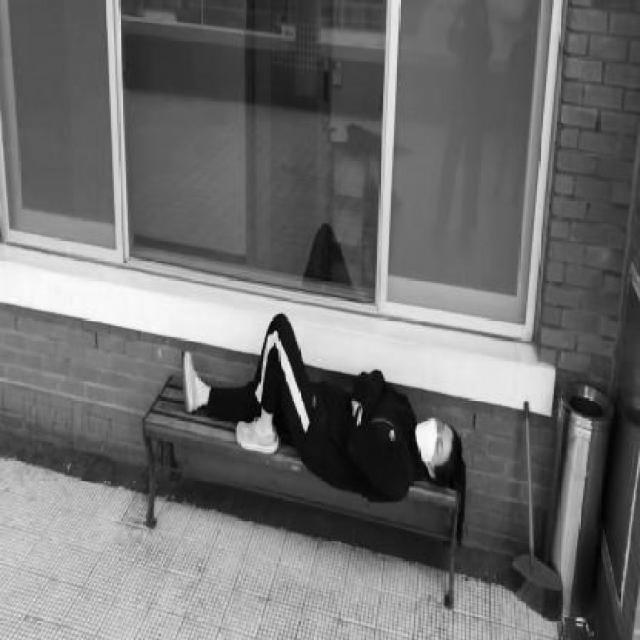person: (183, 313, 462, 502)
